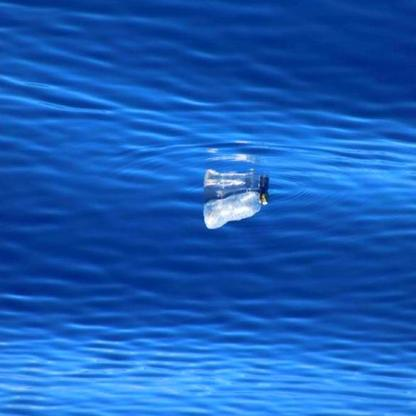plastic bottle: (203, 190, 268, 230)
